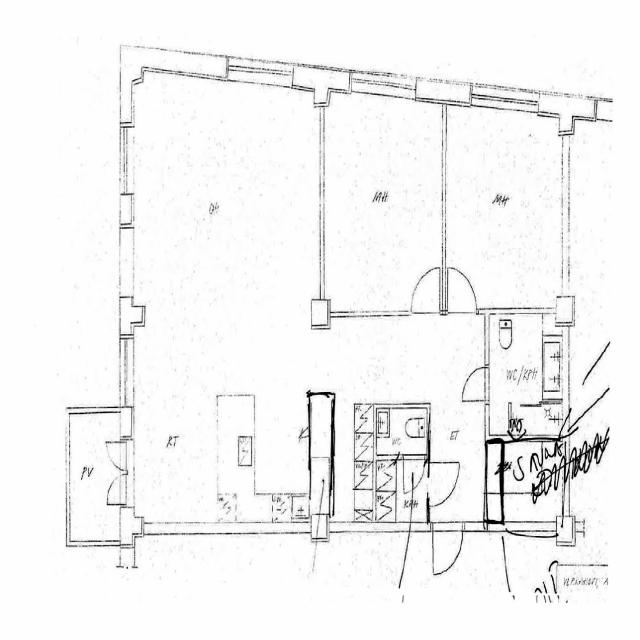door: (433, 523, 462, 576), (410, 267, 440, 316), (447, 266, 476, 316), (426, 463, 459, 506), (462, 367, 489, 400), (106, 473, 134, 504), (106, 442, 134, 473), (508, 404, 528, 442)
